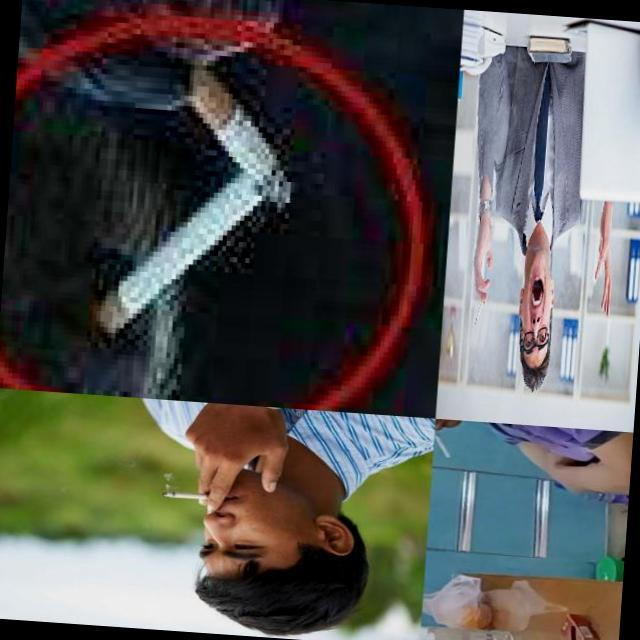smoke: (84, 160, 268, 351), (174, 64, 300, 212), (160, 490, 223, 500), (433, 427, 452, 458), (474, 286, 487, 326)
